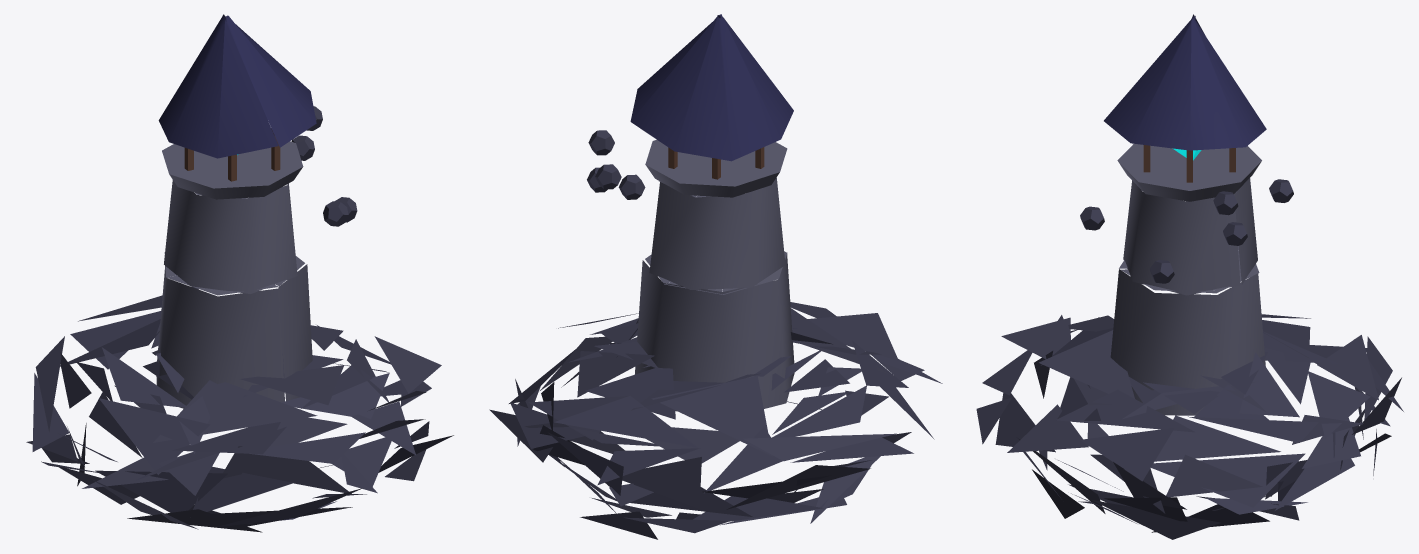
Rendered from low_poly_wizard_tower.glb.
3 renders of one model, left to right at view 1: azimuth 30°, elevation 25°; view 2: azimuth 150°, elevation 25°; view 3: azimuth 270°, elevation 25°, orthographic.
Size of the model in its own units: 13.55 by 16.03 by 13.13.
